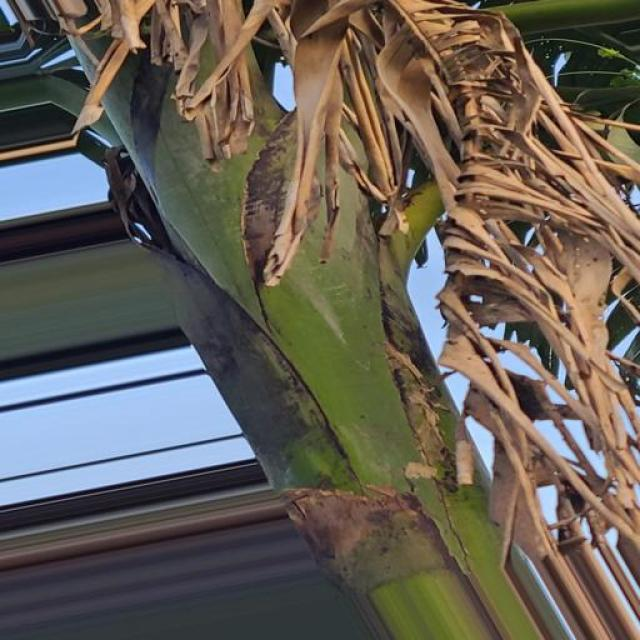Bract_mosaic_virus: (47, 0, 640, 639)
